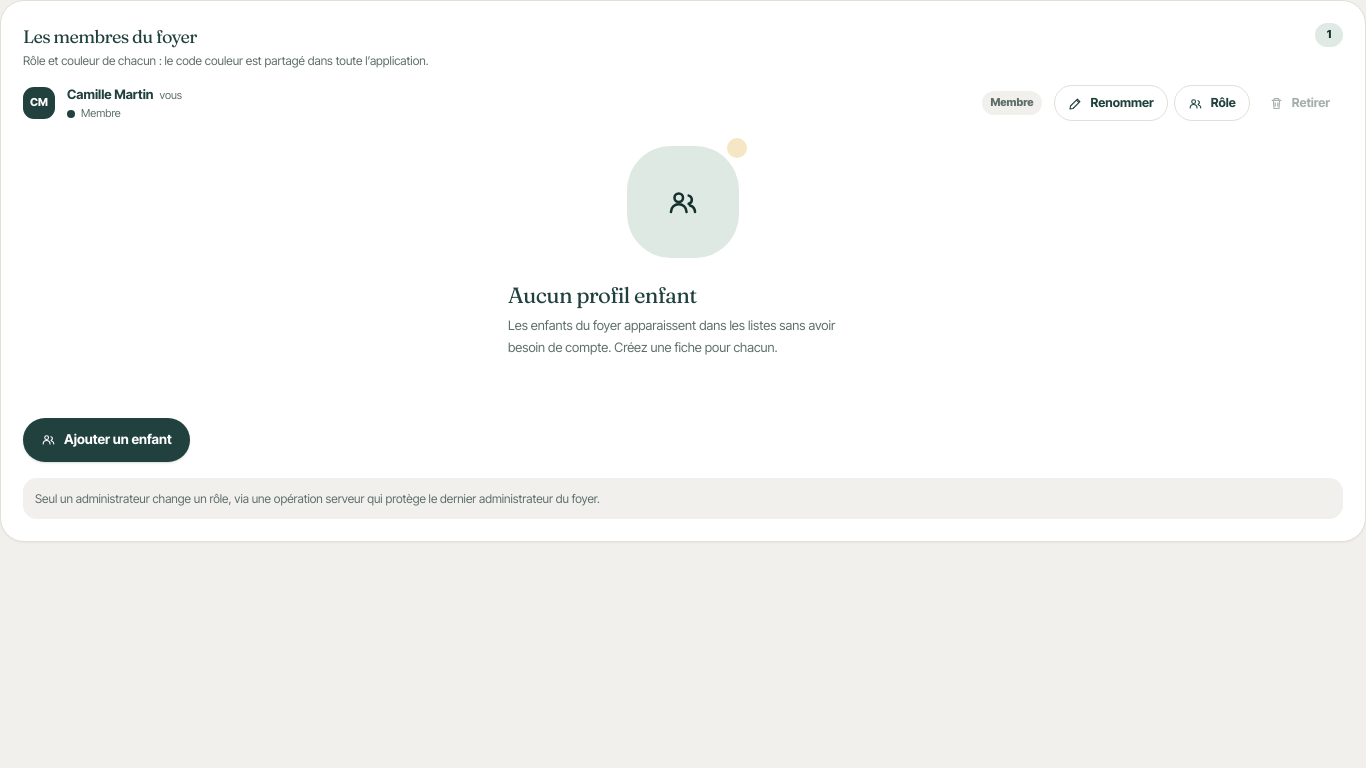
MembersPanel — CRUD enfant DANS la liste des membres (D-02) › crée une fiche enfant depuis le panneau : RPC create + invalidation du store (socle D-06)
Click the button "Ajouter un enfant": (106, 440) [23, 418, 190, 462]
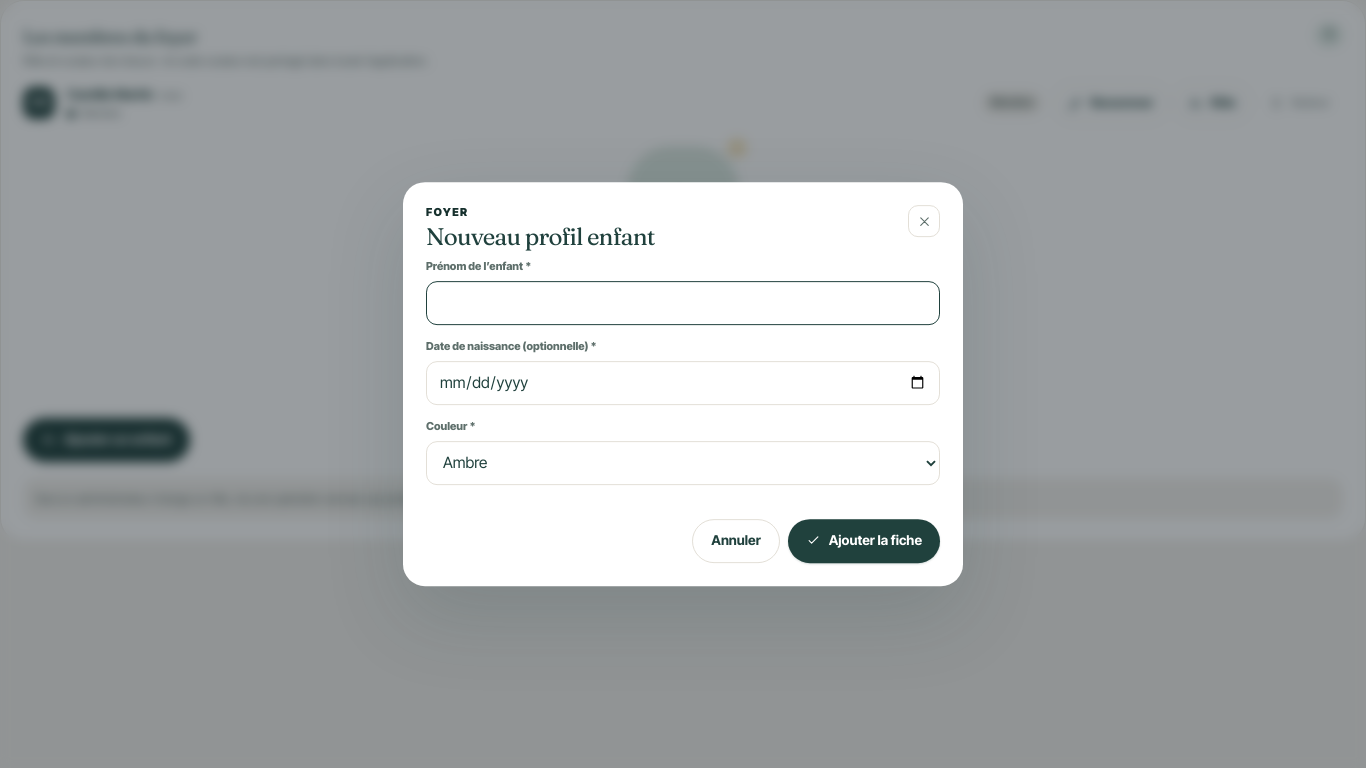
In the field labelled "Prénom de l’enfant *": (683, 303) [426, 281, 940, 325], type "Jade Martin"
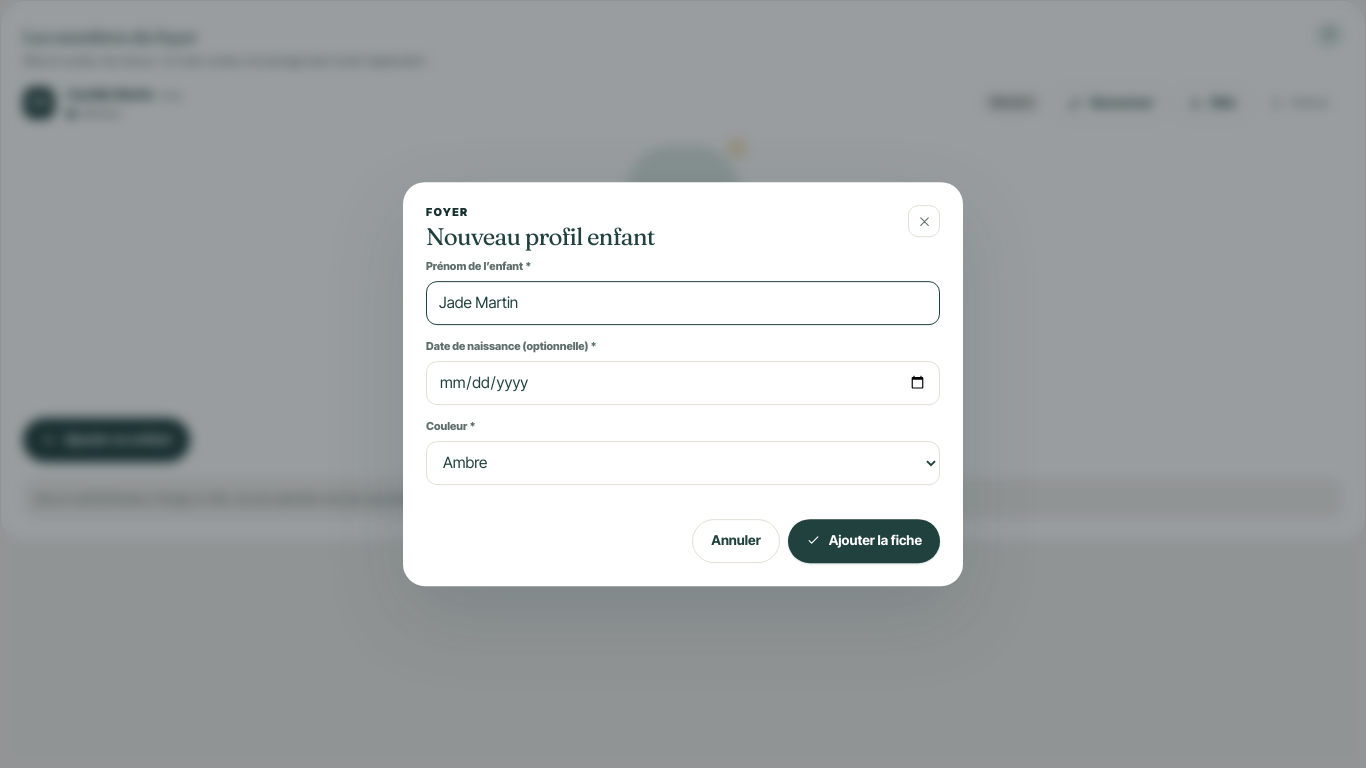
Click the button "Ajouter la fiche": (864, 541) [788, 519, 940, 563]
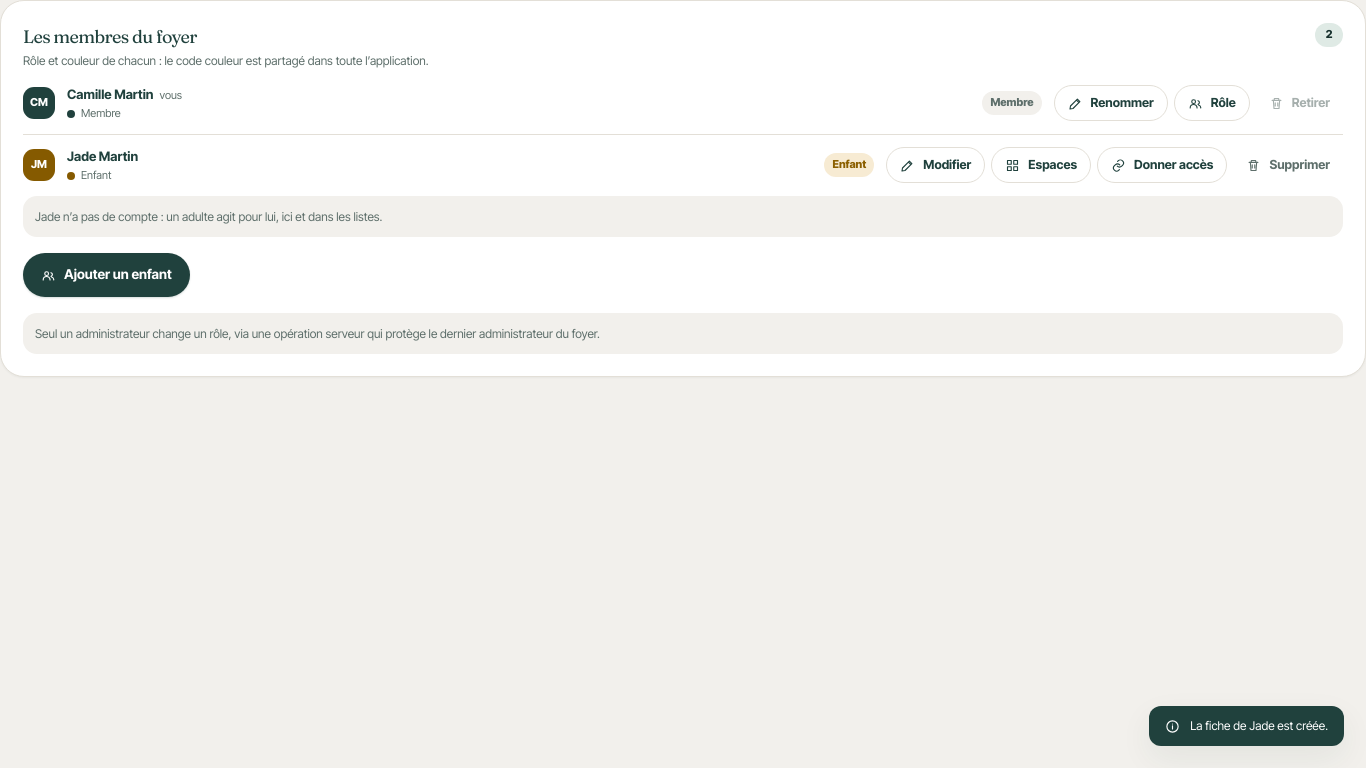
Check: the text "Jade Martin" is shown, box [67, 148, 138, 164]
